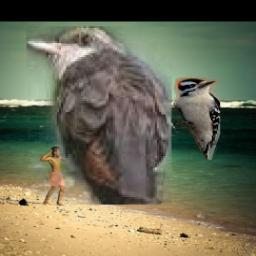Cuckoo: (26, 27, 172, 206)
Woodpecker: (172, 78, 221, 160)
